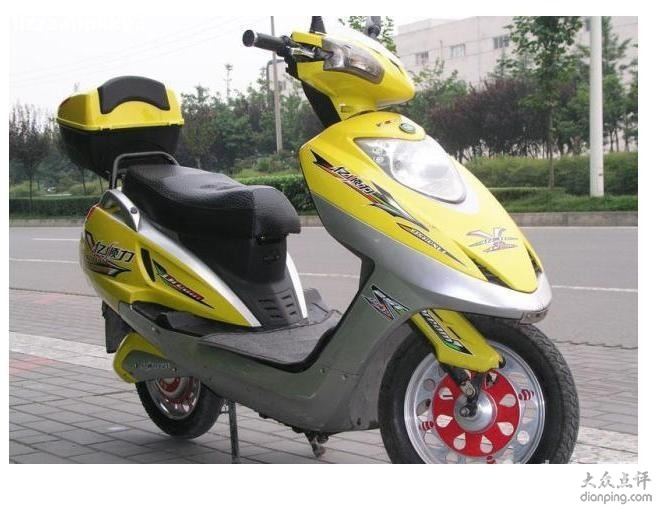电动车: (54, 15, 594, 465)
